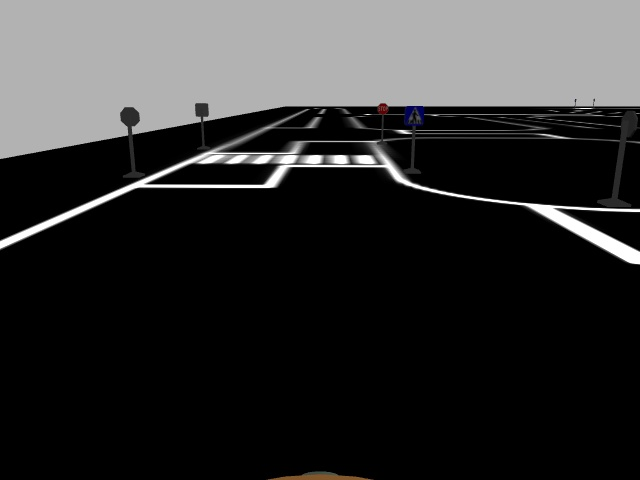crosswalk: (404, 104, 425, 125)
stop: (376, 102, 389, 116)
